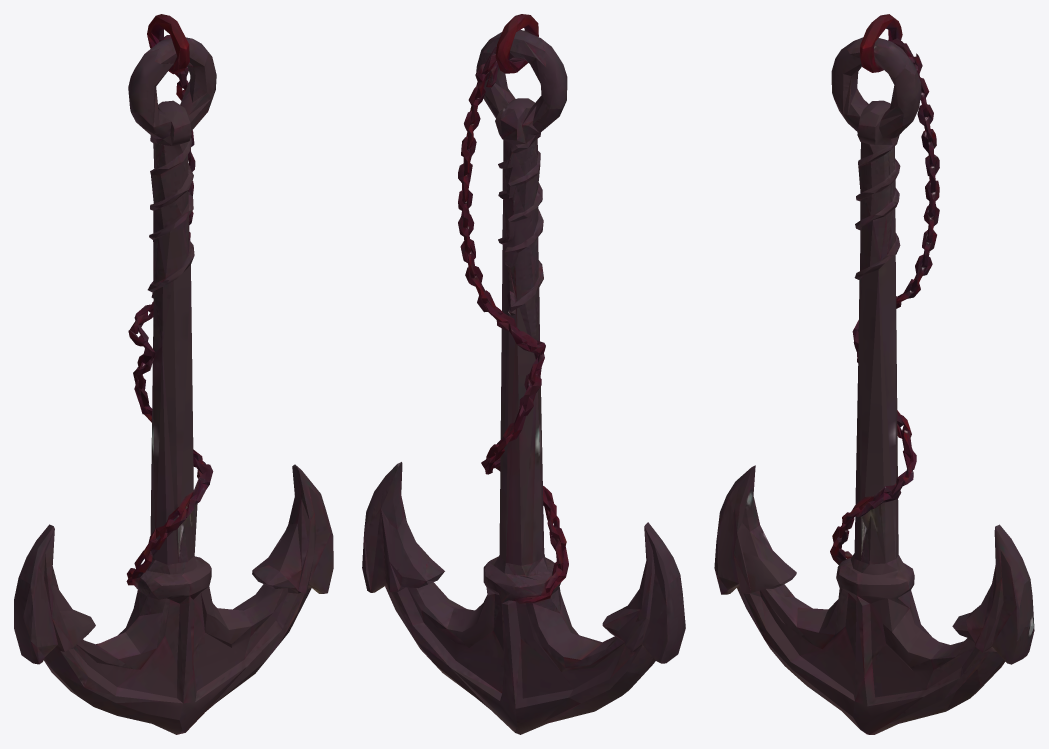
File: ancora.glb
3 renders of one model, left to right at view 1: azimuth 30°, elevation 25°; view 2: azimuth 150°, elevation 25°; view 3: azimuth 330°, elevation 25°, orthographic.
Size of the model in its own units: 0.8647 by 1.9 by 0.2133.
1 material, 1 textured.
